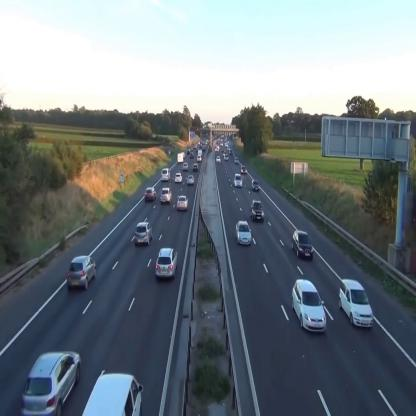car: (21, 350, 80, 416), (292, 278, 327, 332), (339, 279, 373, 328), (68, 255, 96, 292), (156, 247, 178, 280), (291, 230, 313, 262), (134, 221, 152, 246), (235, 221, 252, 245), (250, 200, 264, 221), (160, 188, 172, 204), (144, 187, 156, 202), (177, 196, 188, 211), (161, 168, 171, 182), (233, 172, 242, 186), (252, 178, 260, 190), (174, 172, 182, 182), (187, 175, 194, 186), (241, 164, 247, 174), (182, 162, 188, 170), (193, 163, 198, 171), (197, 154, 202, 162), (216, 156, 221, 164), (235, 157, 239, 164), (224, 153, 228, 160), (190, 152, 194, 158)
lorry: (177, 152, 184, 163)
